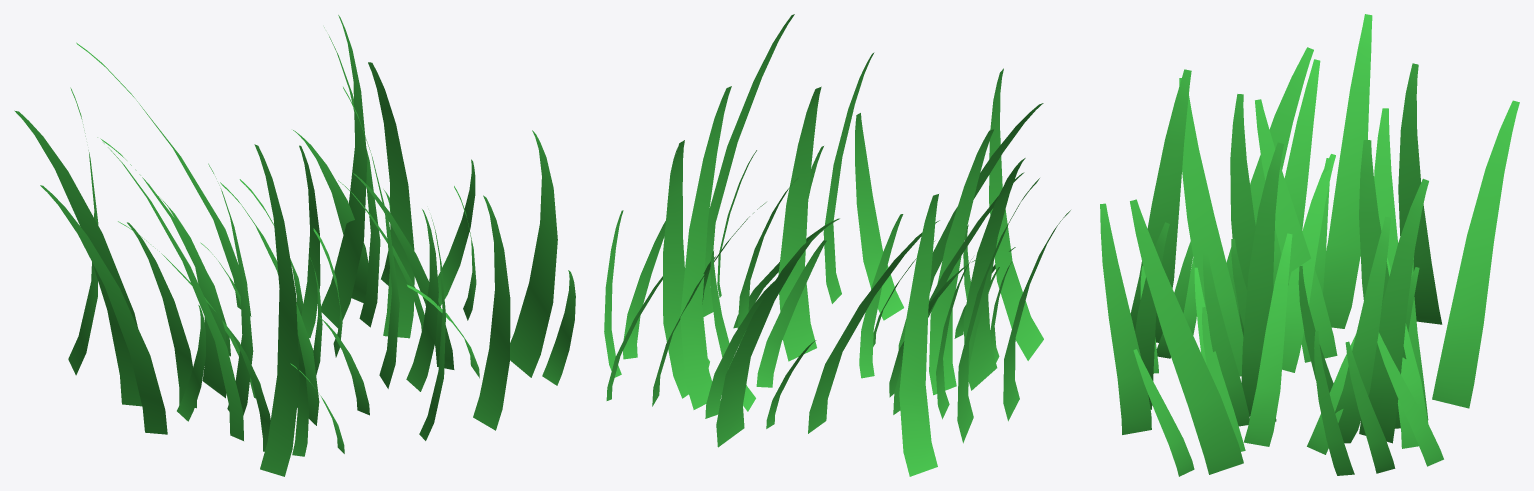
File: Hierba.fbx
3 views of the same model, side by side, from view 1: azimuth 30°, elevation 25°; view 2: azimuth 150°, elevation 25°; view 3: azimuth 270°, elevation 25° (orthographic). The views are drawn at different scales.
Visible parts, largest first — view 1: Hierba.010, Hierba.014, Hierba.015, Hierba.005, Hierba.035, Hierba.028, Hierba.011, Hierba.027, Hierba.008, Hierba.031, Hierba.001, Hierba.034 (+16 smaller); view 2: Hierba.025, Hierba.015, Hierba.017, Hierba.009, Hierba.038, Hierba.010, Hierba.027, Hierba.006, Hierba.018, Hierba.014, Hierba.002, Hierba.028 (+17 smaller); view 3: Hierba.006, Hierba.014, Hierba.035, Hierba.021, Hierba.009, Hierba.017, Hierba.028, Hierba.010, Hierba.025, Hierba.020, Hierba.008, Hierba.005 (+22 smaller).
Part boxes in pixels (x1,y1,x2,y2): Hierba.010: (254, 144, 299, 476); Hierba.014: (510, 130, 557, 377); Hierba.015: (321, 15, 367, 328); Hierba.005: (368, 62, 414, 338); Hierba.035: (14, 110, 141, 406); Hierba.028: (473, 195, 510, 430); Hierba.011: (40, 185, 167, 434); Hierba.027: (97, 137, 243, 440); Hierba.008: (155, 193, 226, 398); Hierba.031: (406, 209, 438, 391); Hierba.001: (127, 222, 196, 408); Hierba.034: (299, 145, 320, 337); Hierba.025: (899, 194, 938, 476); Hierba.015: (680, 86, 731, 409); Hierba.017: (778, 86, 821, 361); Hierba.009: (663, 140, 688, 398); Hierba.038: (929, 129, 993, 395); Hierba.010: (989, 68, 1043, 360); Hierba.027: (963, 158, 1025, 390); Hierba.006: (716, 229, 824, 447); Hierba.018: (855, 113, 903, 320); Hierba.014: (702, 14, 794, 316); Hierba.002: (808, 220, 939, 433); Hierba.028: (823, 52, 874, 303); Hierba.006: (1432, 100, 1519, 408); Hierba.014: (1130, 199, 1243, 474); Hierba.035: (1323, 14, 1372, 328); Hierba.021: (1179, 78, 1243, 376); Hierba.009: (1359, 178, 1428, 443); Hierba.017: (1241, 142, 1283, 421); Hierba.028: (1100, 203, 1151, 434); Hierba.010: (1130, 69, 1191, 342); Hierba.025: (1398, 63, 1442, 324); Hierba.020: (1243, 233, 1292, 446); Hierba.008: (1255, 99, 1337, 362); Hierba.005: (1335, 216, 1390, 443).
Size of the model in its own units: 345 by 236 by 309.
